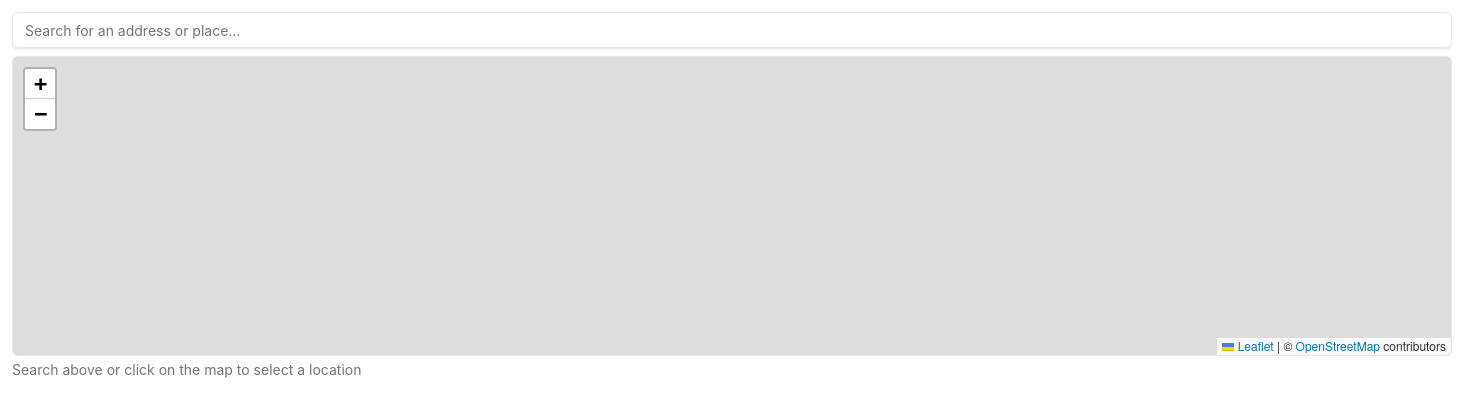
Scenario: MapPicker — location search & autocomplete › shows a 'No results found' message when the query is 3+ chars and the API returns nothing
In the field named "Search for a location": point(732, 30) [12,12,1452,48], type "Atlantis"
Wait 300 ms
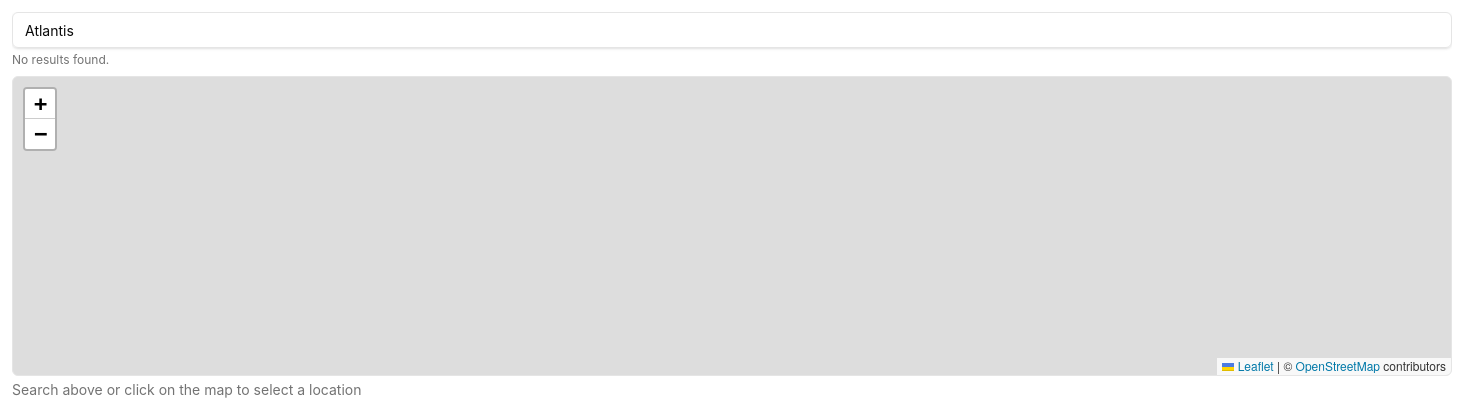
Expected: the list "location suggestions" is not shown
Expected: the text "No results found." is shown, [12,52,109,67]
